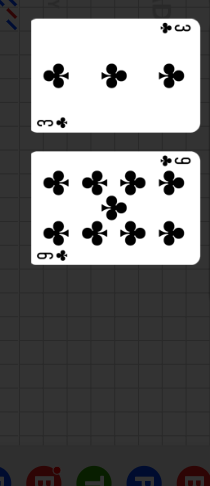3C: (157, 22, 192, 36)
9C: (35, 248, 70, 262)
